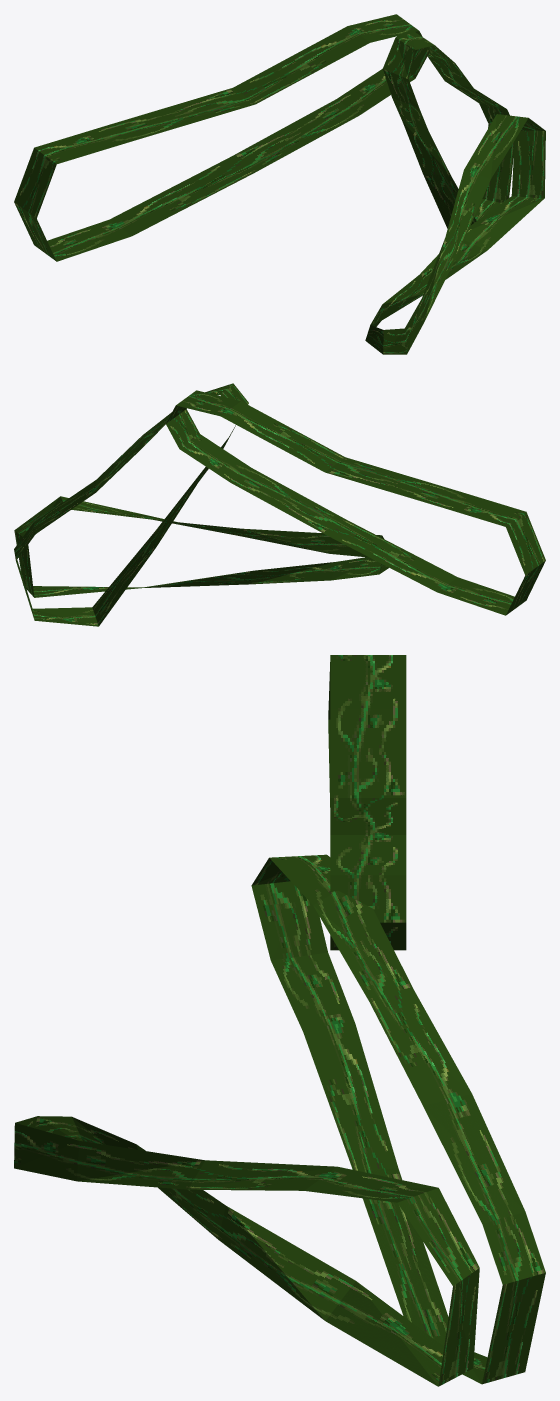
File: tenglian_mod.fbx
The picture shows the model from 3 angles, top to bottom: view 1: azimuth 30°, elevation 25°; view 2: azimuth 150°, elevation 25°; view 3: azimuth 270°, elevation 25°; orthographic projection. The views are drawn at different scales.
Parts seen in each view (by area): view 1: tenglian_mod; view 2: tenglian_mod; view 3: tenglian_mod.
Boxes of the visible parts, box(x1,y1,x2,y2) form: tenglian_mod: box(14, 14, 545, 354); tenglian_mod: box(14, 383, 545, 626); tenglian_mod: box(14, 655, 545, 1386).
Bounding box in the file's own units: 915 × 397 × 462.
Materials: 1 (1 with a texture image).
